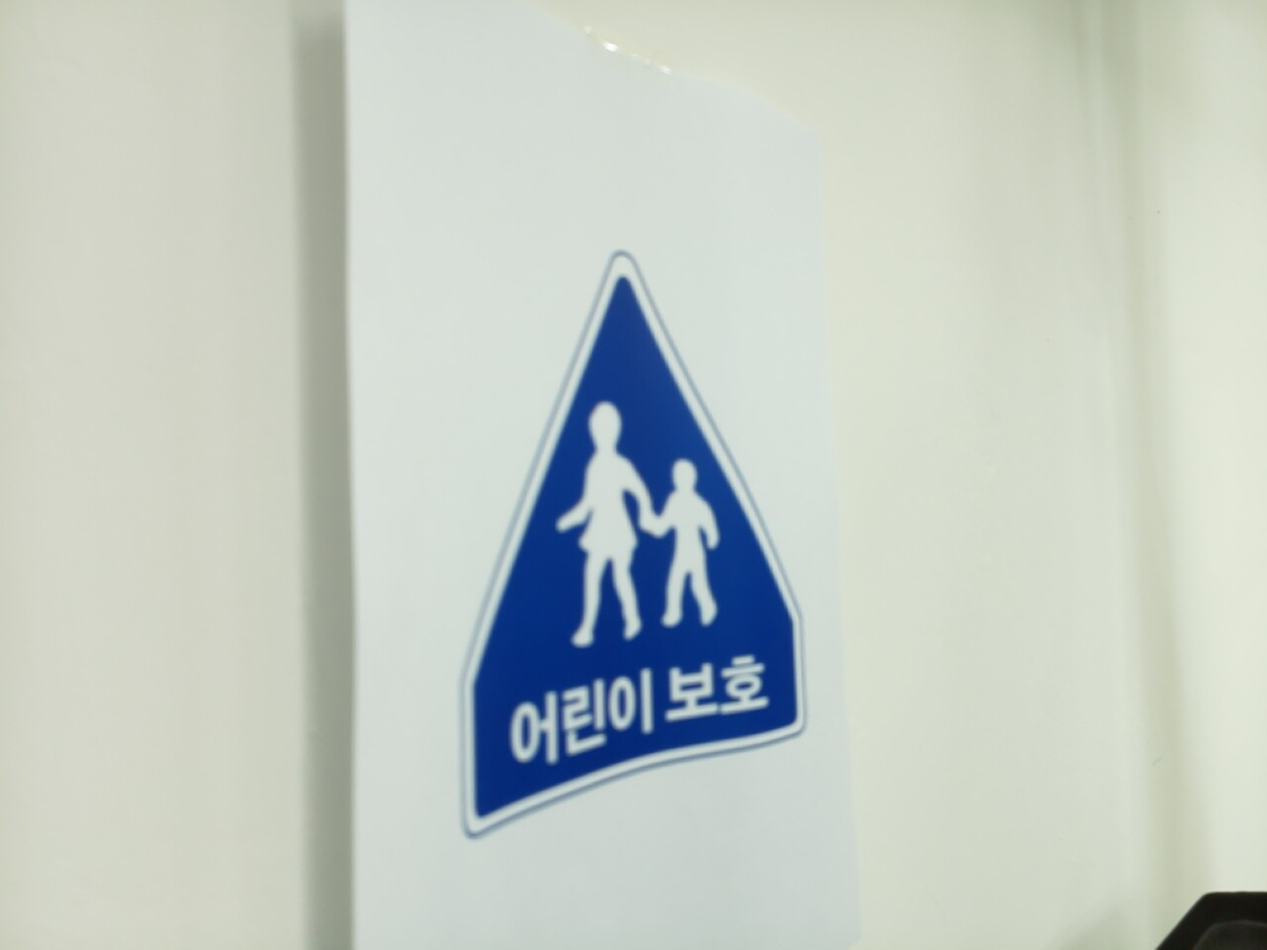school_zone: (463, 262, 808, 832)
